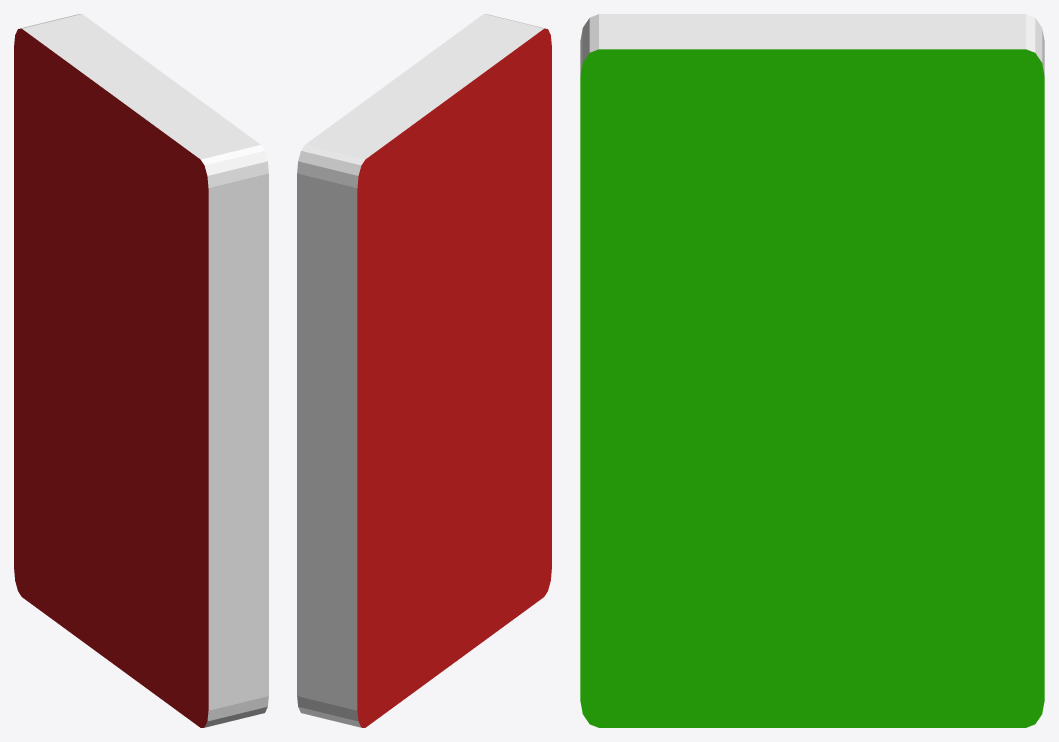
3 views of the same model, side by side, from view 1: azimuth 30°, elevation 25°; view 2: azimuth 150°, elevation 25°; view 3: azimuth 270°, elevation 25° (orthographic). The views are drawn at different scales.
Parts seen in each view (by area): view 1: Cube; view 2: Cube; view 3: Cube.
Boxes of the visible parts, x1,y1,x2,y2 form: Cube: (14, 14, 268, 727); Cube: (297, 14, 551, 727); Cube: (580, 14, 1044, 727).
Size of the model in its own units: 0.2225 by 2 by 1.24.
